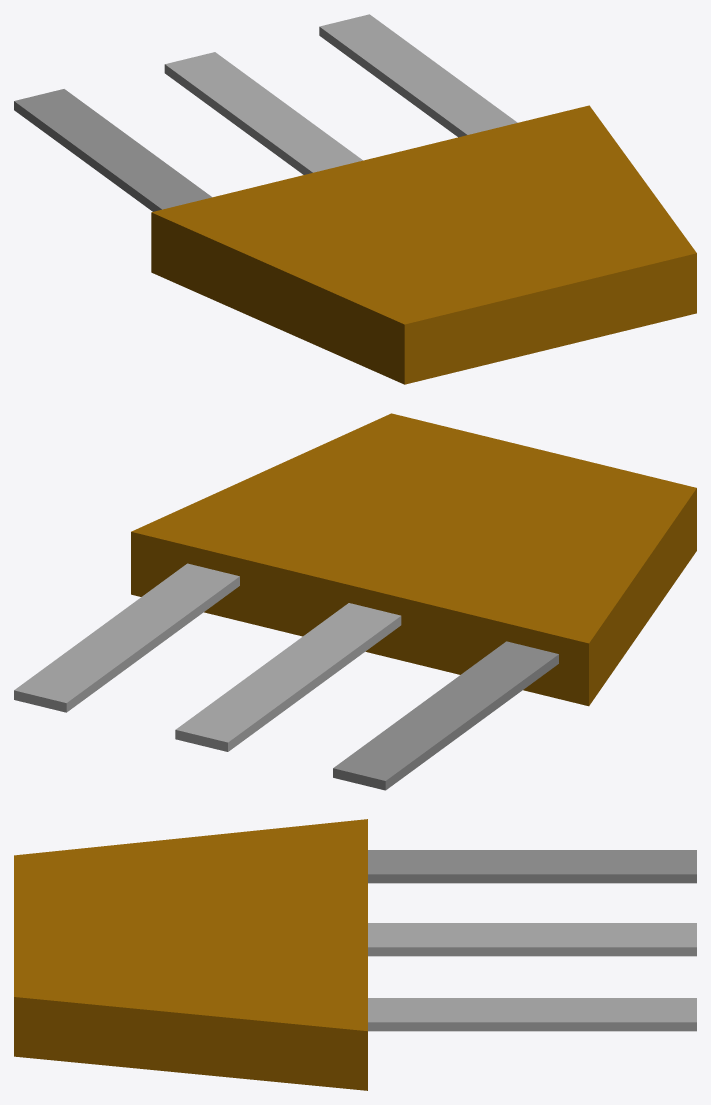
The model's file is circuit_part_1.fbx.
3 views of the same model, one above another, from view 1: azimuth 30°, elevation 25°; view 2: azimuth 150°, elevation 25°; view 3: azimuth 270°, elevation 25° (orthographic). The views are drawn at different scales.
Visible parts, largest first — view 1: Plane.001; view 2: Plane.001; view 3: Plane.001.
Part boxes in pixels (x1,y1,x2,y2): Plane.001: [14, 14, 696, 384]; Plane.001: [14, 413, 696, 790]; Plane.001: [14, 819, 696, 1090].
Size of the model in its own units: 122 by 16 by 166.
